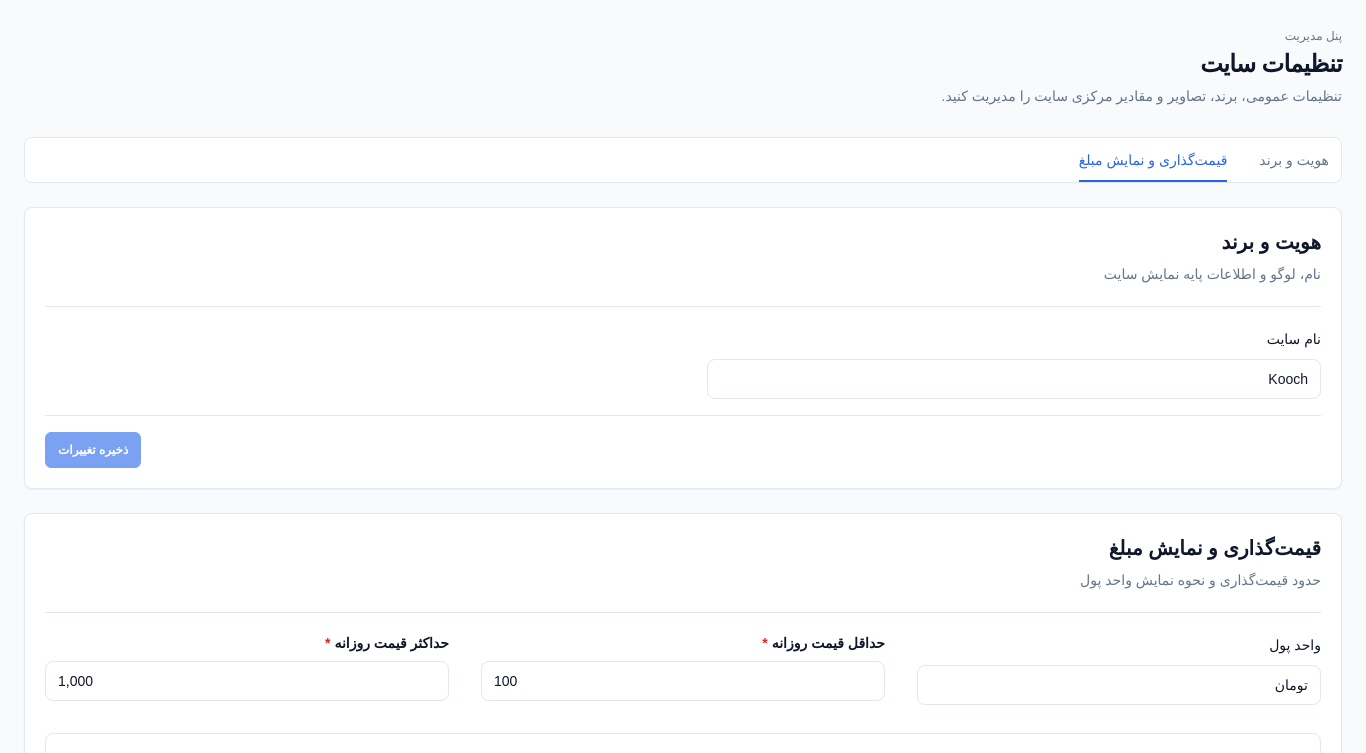
Admin Site Settings pricing bounds editor › keeps the draft and persisted pair unchanged when PUT fails
Replace the text in the field labelled "حداقل قیمت روزانه*" with "200" at point(683, 681), box [481,661,885,701]
(page scrolled)
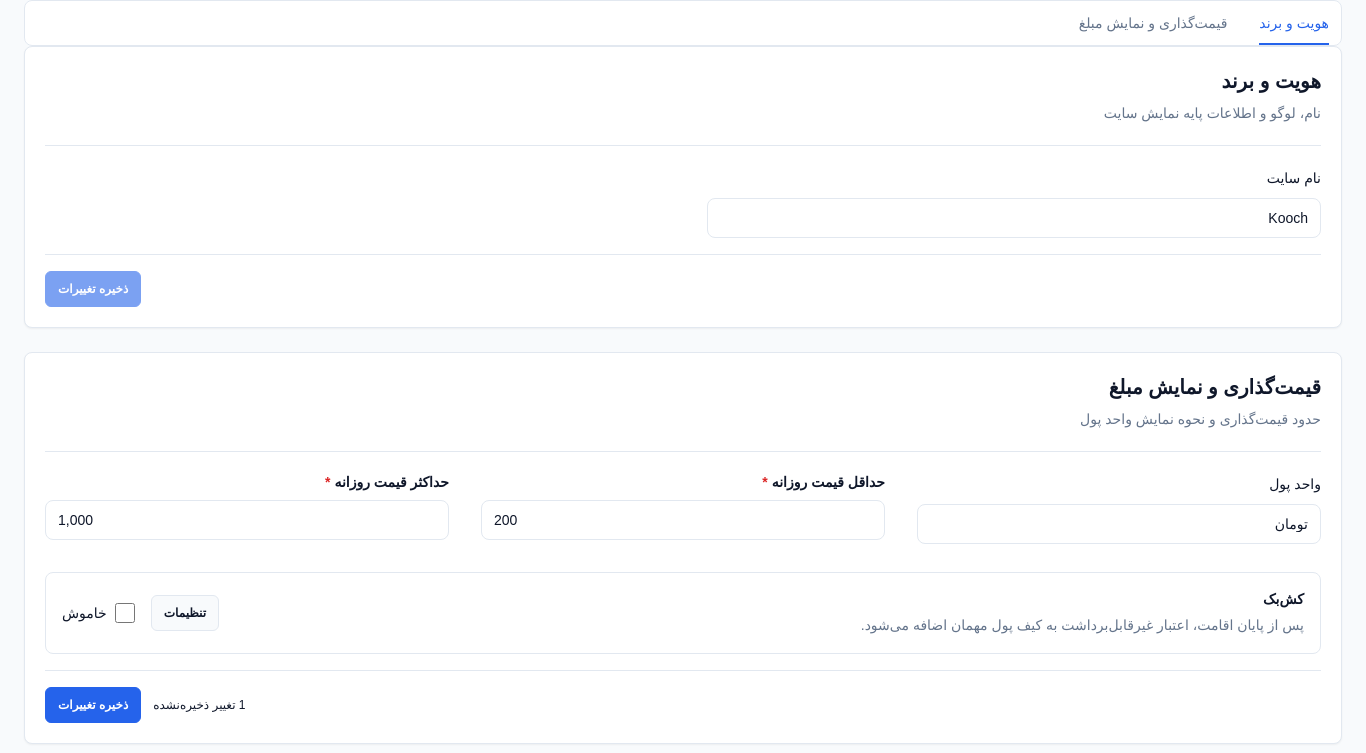
Expected: the element named "حداقل قیمت روزانه" is shown, [24,352,1342,744]
Expected: the button "ذخیره تغییرات" next to "1 تغییر ذخیره‌نشده" is enabled
Click the button "ذخیره تغییرات" next to "1 تغییر ذخیره‌نشده" at point(93, 705), box [45,687,141,723]
(page scrolled)
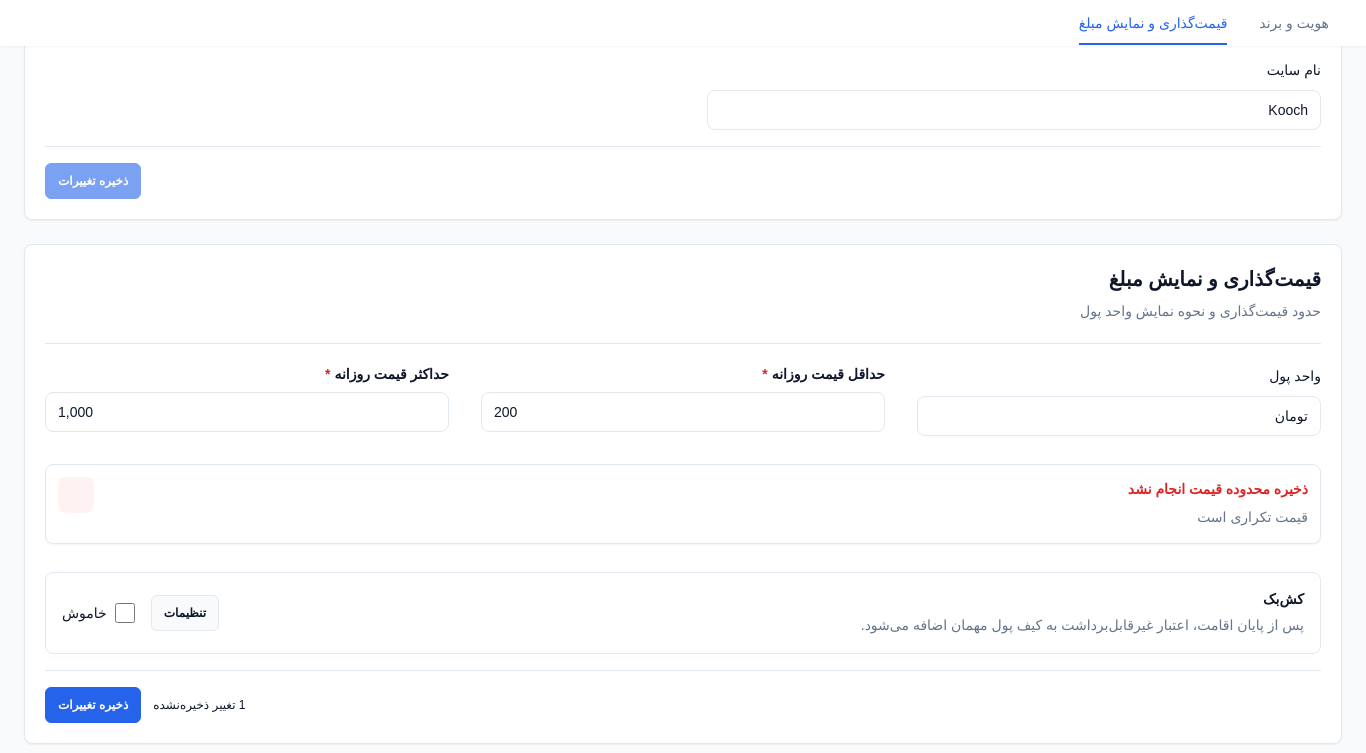
Expected: the button "ذخیره تغییرات" next to "1 تغییر ذخیره‌نشده" is enabled, [45,687,141,723]
Expected: the text "قیمت تکراری است" is shown, [1197,509,1308,525]
